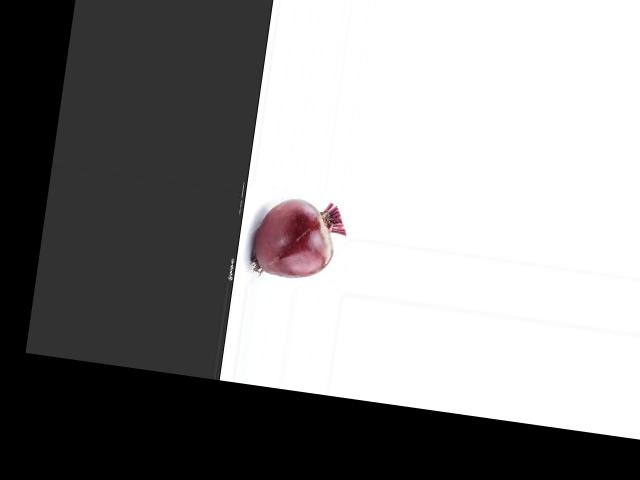beet: (250, 193, 349, 284)
